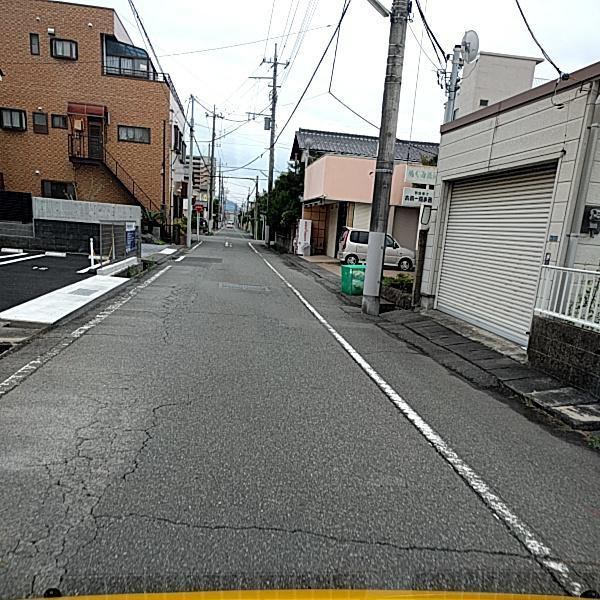D10: (93, 507, 596, 575), (190, 302, 267, 320), (358, 347, 424, 360)
D20: (0, 367, 205, 599), (109, 279, 193, 344)
D44: (304, 306, 599, 599)
